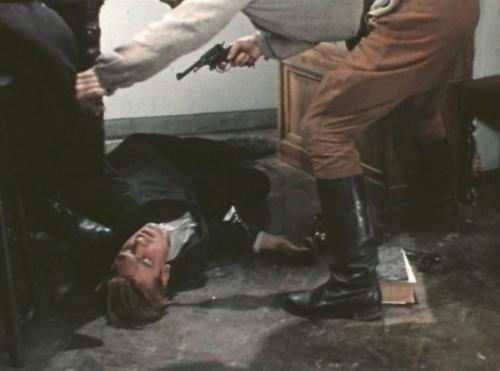Gun: (176, 42, 254, 82)
